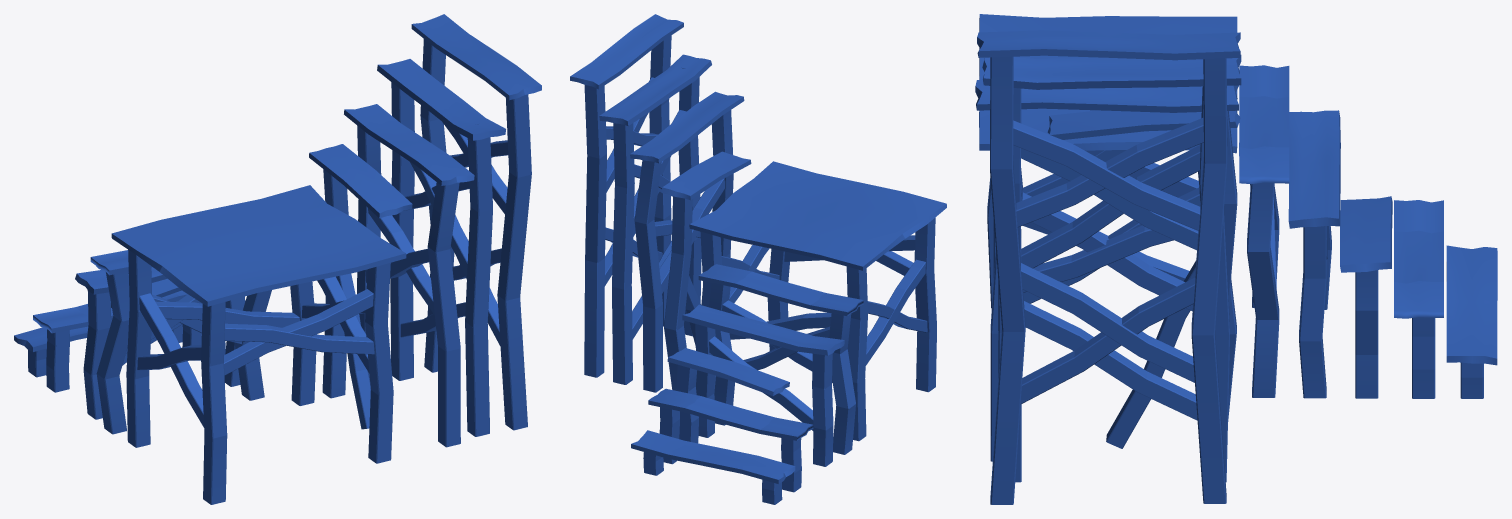
Rendered from OBJET_Stairs_V2.fbx.
3 views of the same model, side by side, from view 1: azimuth 30°, elevation 25°; view 2: azimuth 150°, elevation 25°; view 3: azimuth 270°, elevation 25° (orthographic). The views are drawn at different scales.
Parts seen in each view (by area): view 1: Escalier24; view 2: Escalier24; view 3: Escalier24.
Boxes of the visible parts, x1,y1,x2,y2 form: Escalier24: (14, 14, 541, 504); Escalier24: (570, 14, 946, 504); Escalier24: (975, 14, 1497, 504).
Bounding box in the file's own units: 1183 × 1189 × 1183.
